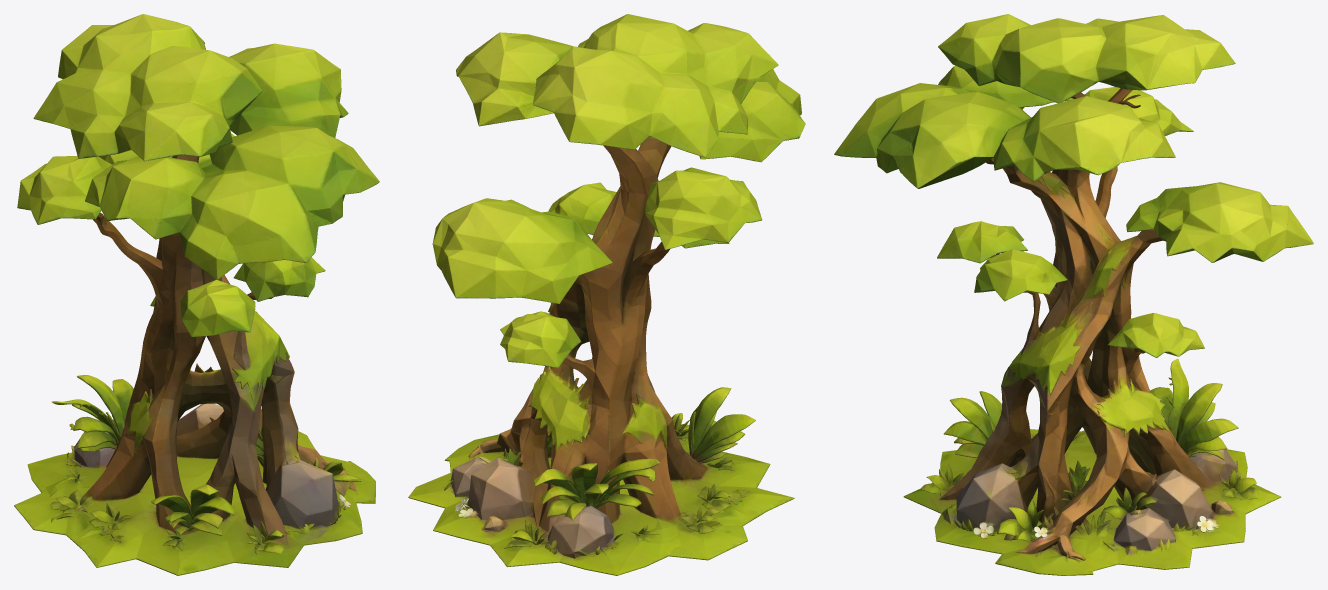
Rendered from KeepSakeTallTreeV2.glb.
The picture shows the model from 3 angles, left to right: view 1: azimuth 30°, elevation 25°; view 2: azimuth 150°, elevation 25°; view 3: azimuth 270°, elevation 25°; orthographic projection.
Visible parts, largest first — view 1: tripo_node_2f3d04f4-b27b-4dfd-ae24-d6976c207b1e; view 2: tripo_node_2f3d04f4-b27b-4dfd-ae24-d6976c207b1e; view 3: tripo_node_2f3d04f4-b27b-4dfd-ae24-d6976c207b1e.
Boxes of the visible parts, left/top/right/bottom form: tripo_node_2f3d04f4-b27b-4dfd-ae24-d6976c207b1e: left=14, top=14, right=379, bottom=575; tripo_node_2f3d04f4-b27b-4dfd-ae24-d6976c207b1e: left=408, top=14, right=805, bottom=575; tripo_node_2f3d04f4-b27b-4dfd-ae24-d6976c207b1e: left=834, top=14, right=1313, bottom=575.
Bounding box in the file's own units: 0.6981 × 0.9796 × 0.919.
Materials: 1 (1 with a texture image).
